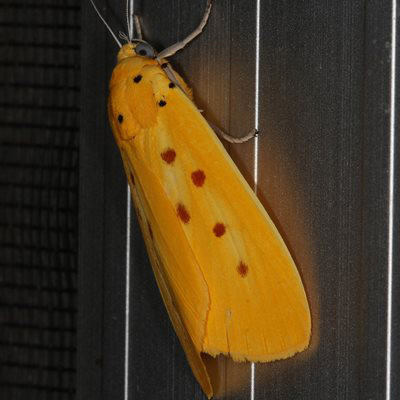Agape chloropyga: (90, 1, 319, 367)
moth: (88, 1, 317, 368)
